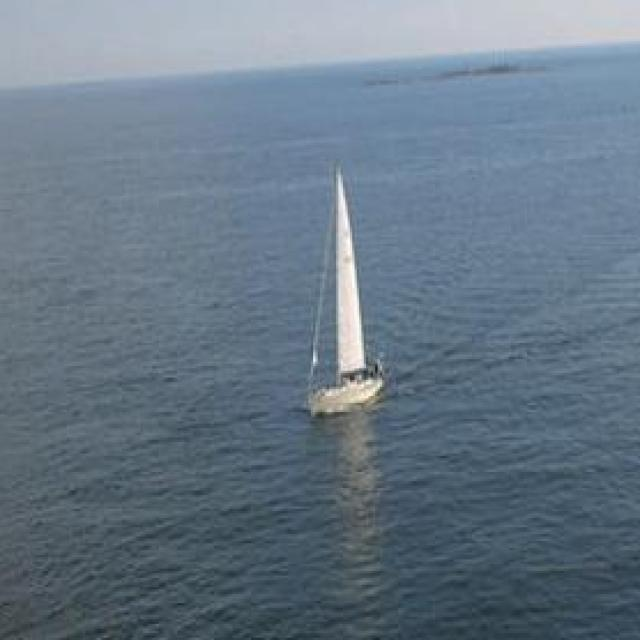sailboat: (298, 151, 391, 422)
